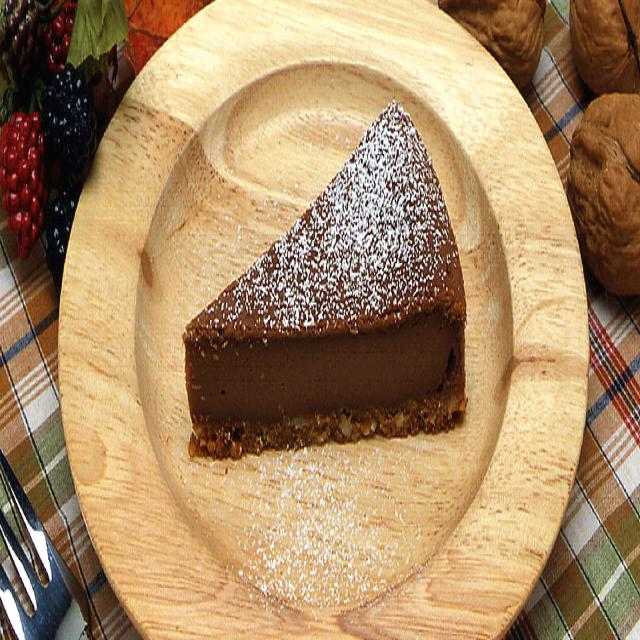chocolatecake: (181, 96, 469, 459)
